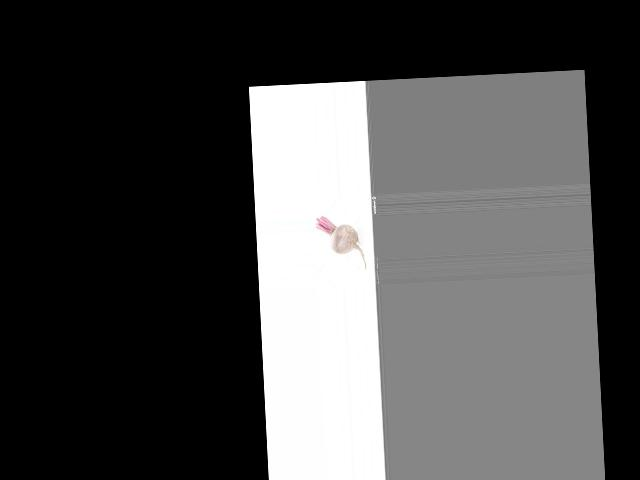beet: (315, 214, 366, 272)
